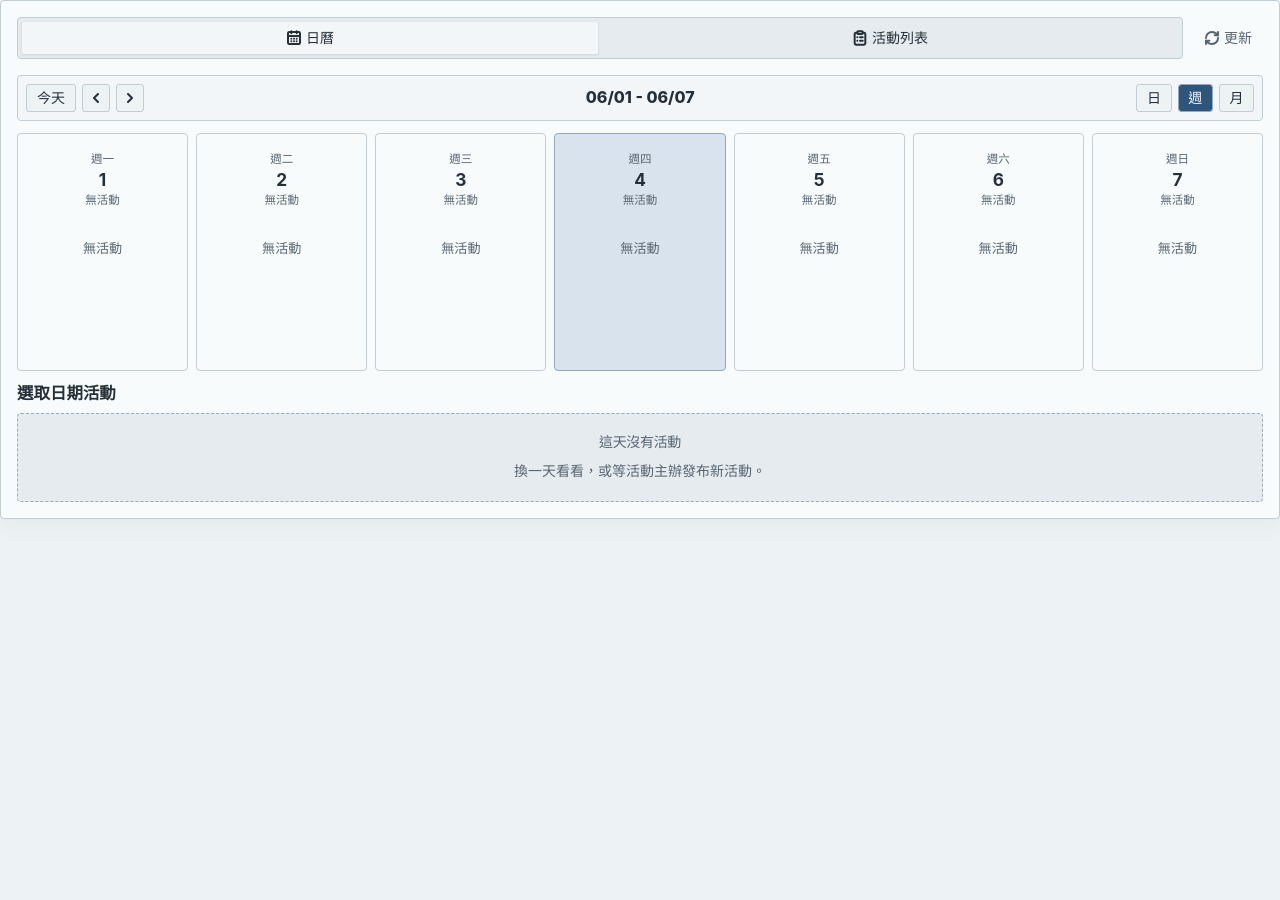
it: EmployeeEventsPage discovery list recovery rows › surfaces cancelled and registration-closed rows in list mode only
Check: the text "這天沒有活動" is shown, box 599,432 -> 681,452
Check: the text "已取消活動" is not shown
Click the tab "活動列表".
click(890, 38)  # box 601,21 -> 1179,55
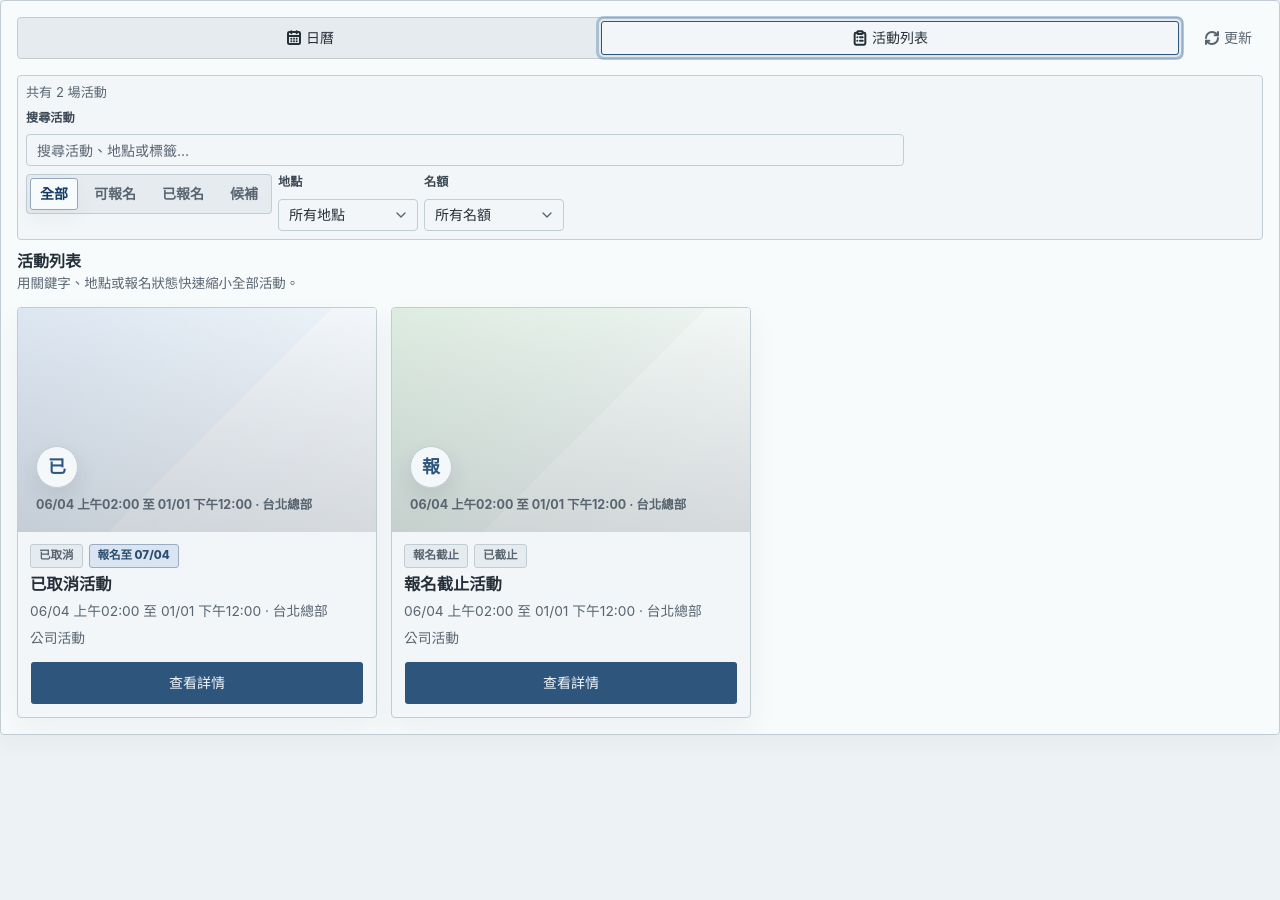
Check: the heading "已取消活動" is shown, box 30,574 -> 112,594
Check: the heading "報名截止活動" is shown, box 404,574 -> 502,594
Check: the icon "已取消" is shown, box 30,544 -> 82,568
